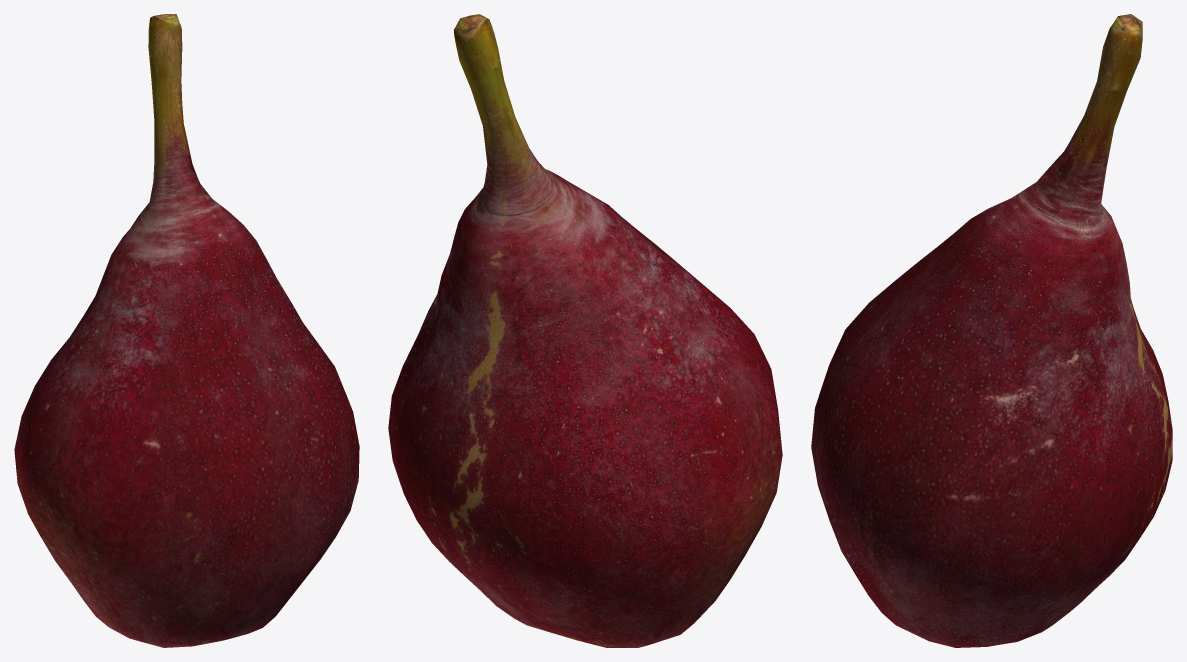
Rendered from realpear.glb.
3 views of the same model, side by side, from view 1: azimuth 30°, elevation 25°; view 2: azimuth 150°, elevation 25°; view 3: azimuth 270°, elevation 25° (orthographic). The views are drawn at different scales.
Visible parts, largest first — view 1: Red Pear; view 2: Red Pear; view 3: Red Pear.
Boxes of the visible parts, x1=… form: Red Pear: x1=14, y1=14, x2=359, y2=647; Red Pear: x1=388, y1=14, x2=782, y2=647; Red Pear: x1=811, y1=14, x2=1172, y2=647.
Bounding box in the file's own units: 0.0561 × 0.1 × 0.0525.
1 material, 1 textured.
